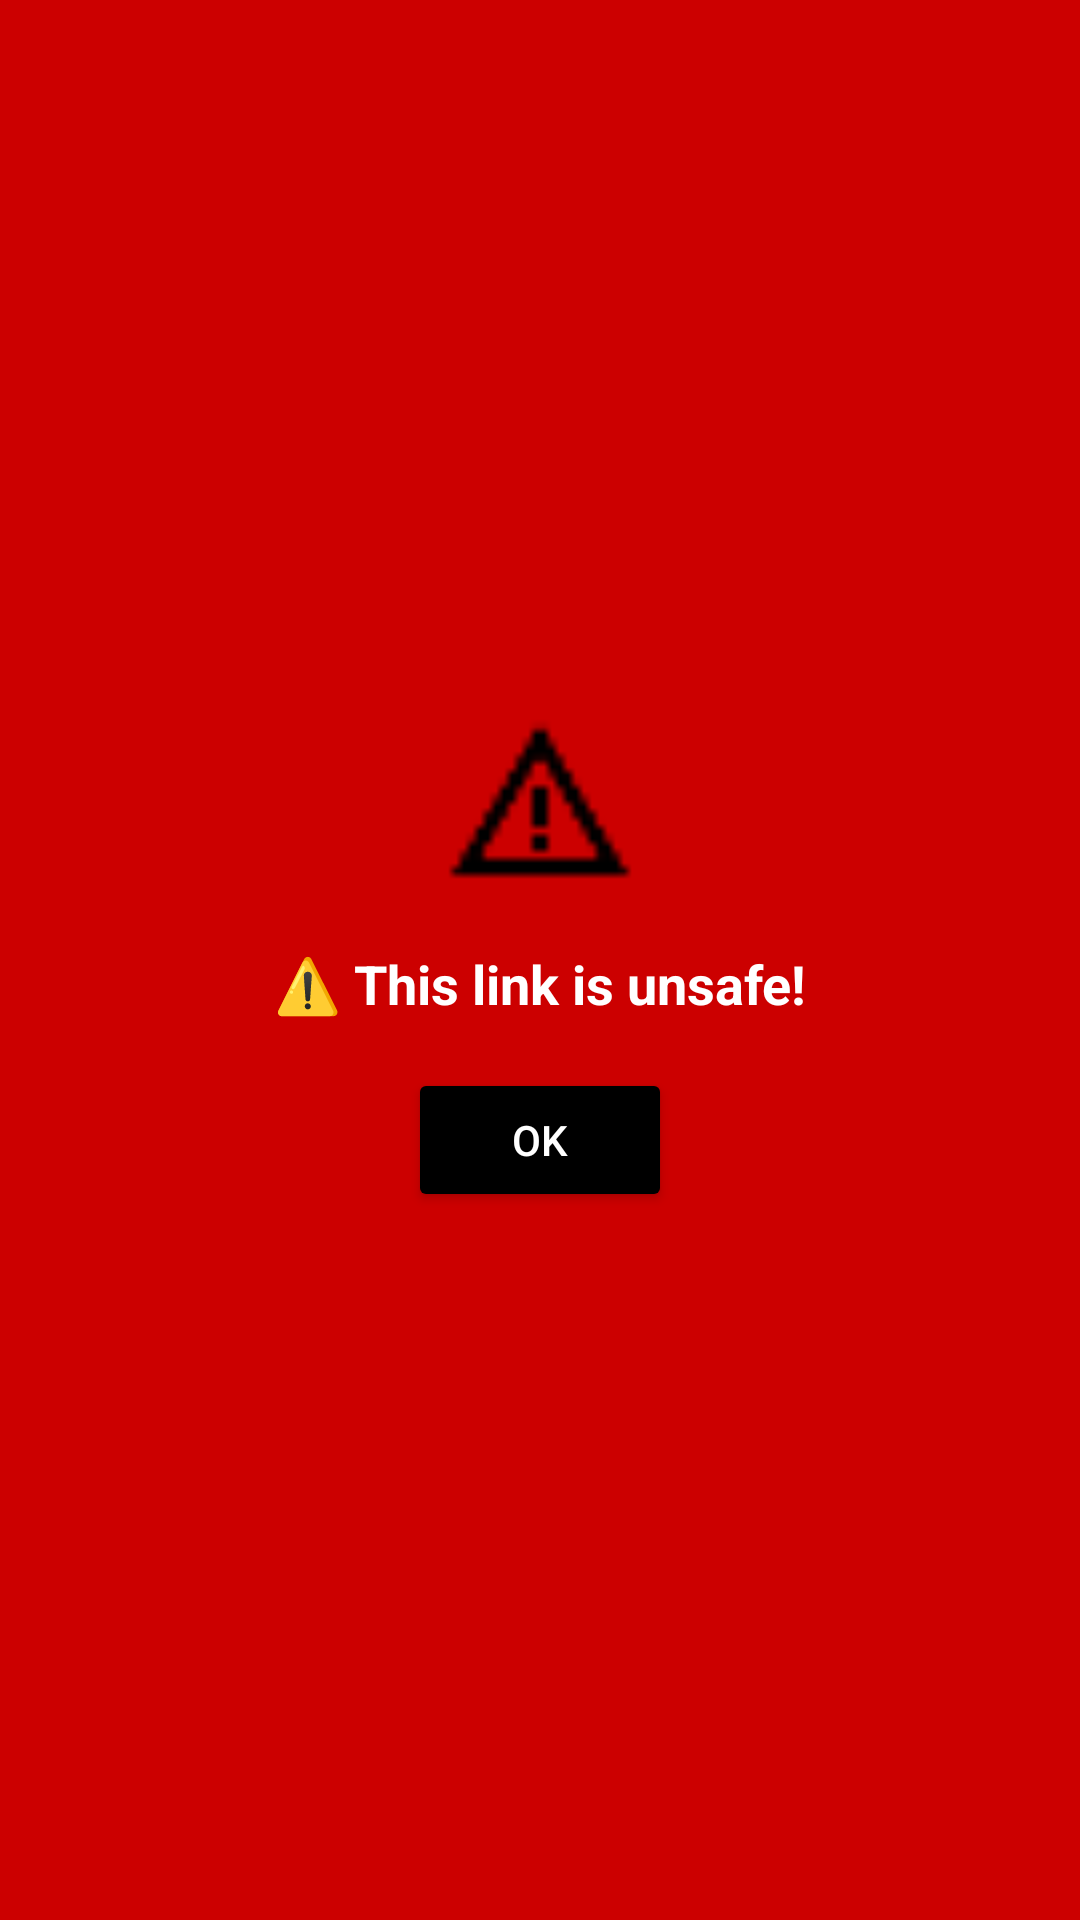

Screen size 1080px x 1920px. Icon name, then its center in pixels as (x=x, y=y):
warning: (x=540, y=801)
